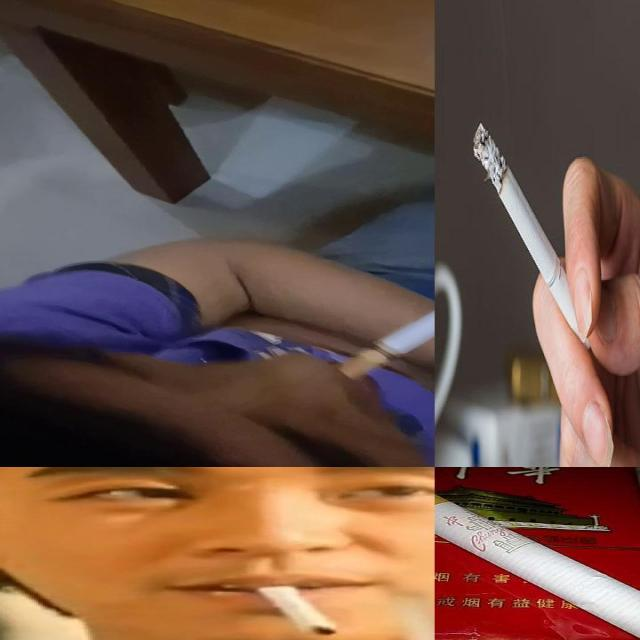smoking: (434, 466, 640, 640), (472, 120, 592, 352), (338, 270, 434, 380), (251, 580, 338, 636)
